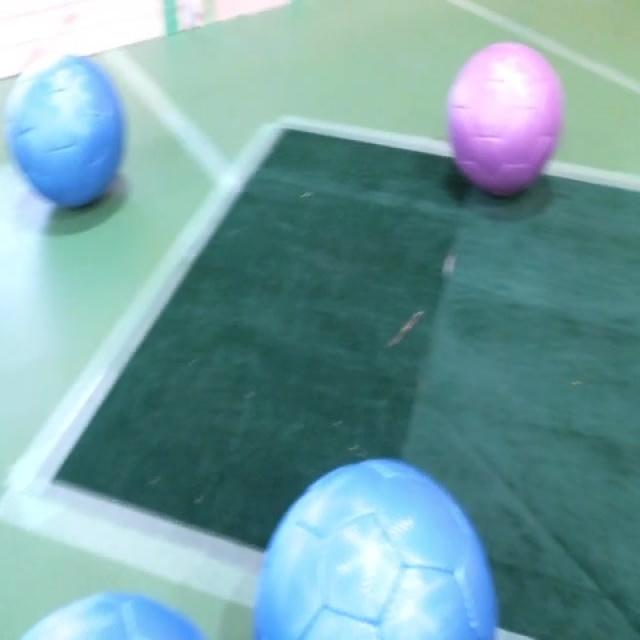blue_ball: (253, 450, 499, 640), (10, 54, 126, 210), (19, 587, 214, 640)
purple_ball: (445, 42, 566, 200)
